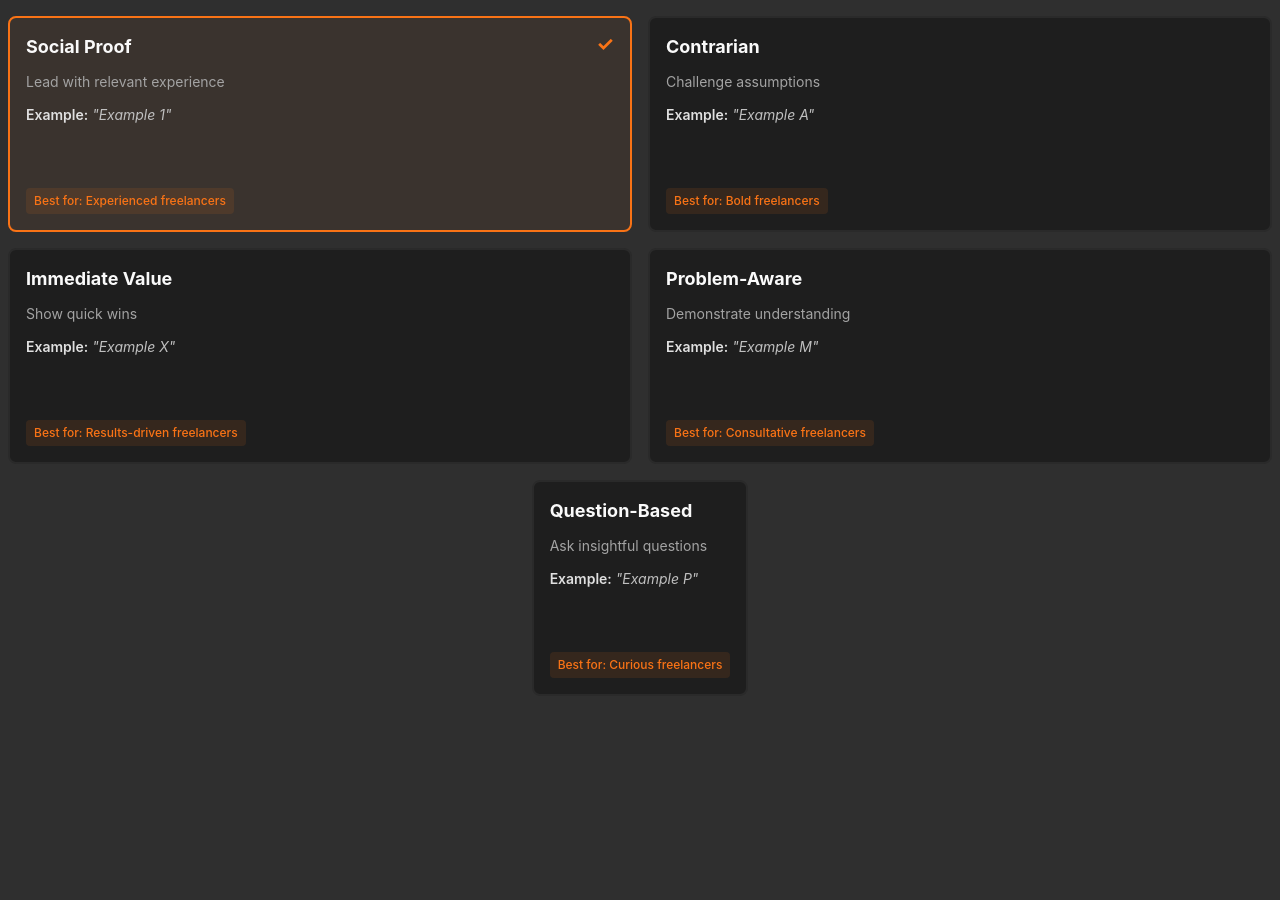
HookStrategySelector › should update visual state when selection changes
Click on "Contrarian" card
Click the radio button with aria-label "Hook strategy: Contrarian. Challenge assumptions. Not select" at (960, 124), box [648,16,1272,232]
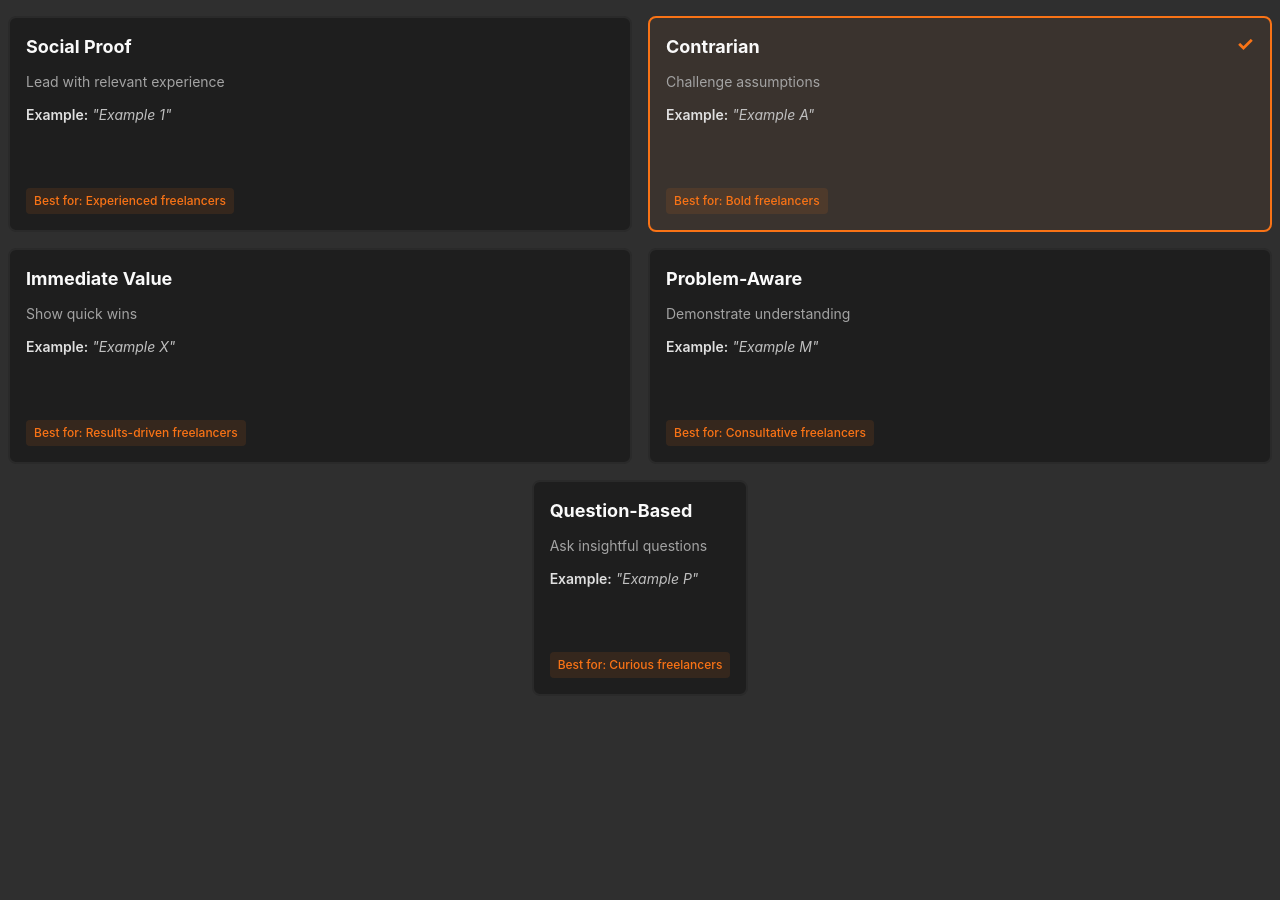
Expected: the radio button with aria-label "Hook strategy: Social Proof. Lead with relevant experience." is shown, [8,16,632,232]
